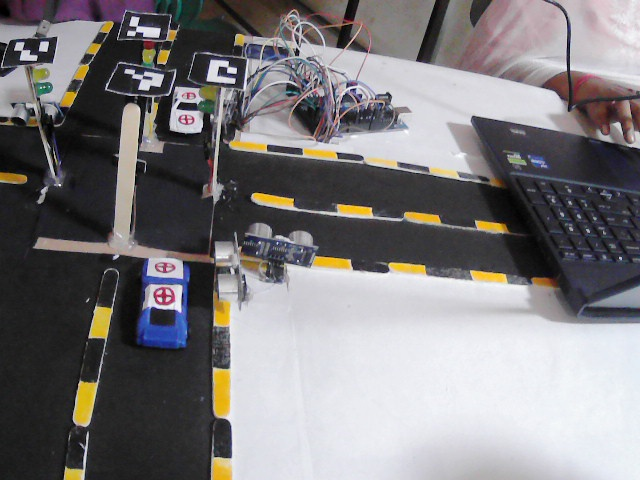aruco_marker: (103, 64, 174, 101), (190, 52, 247, 89), (2, 32, 56, 67), (119, 11, 175, 41)
emergency_vehicle: (137, 257, 194, 348), (168, 85, 202, 139)
traffic_light: (198, 86, 225, 157), (30, 67, 54, 104), (139, 41, 164, 72)
uno_breadboard: (293, 83, 414, 146), (242, 222, 320, 279), (257, 67, 344, 112), (210, 231, 246, 312), (9, 99, 63, 128), (238, 41, 299, 65)
